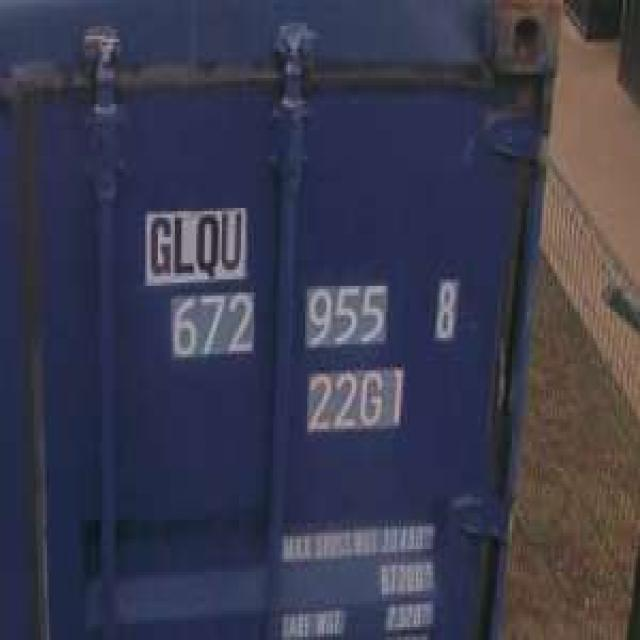dv: (431, 272, 460, 347)
owner: (145, 208, 248, 279)
serial: (162, 286, 410, 357)
size: (301, 364, 403, 432)
